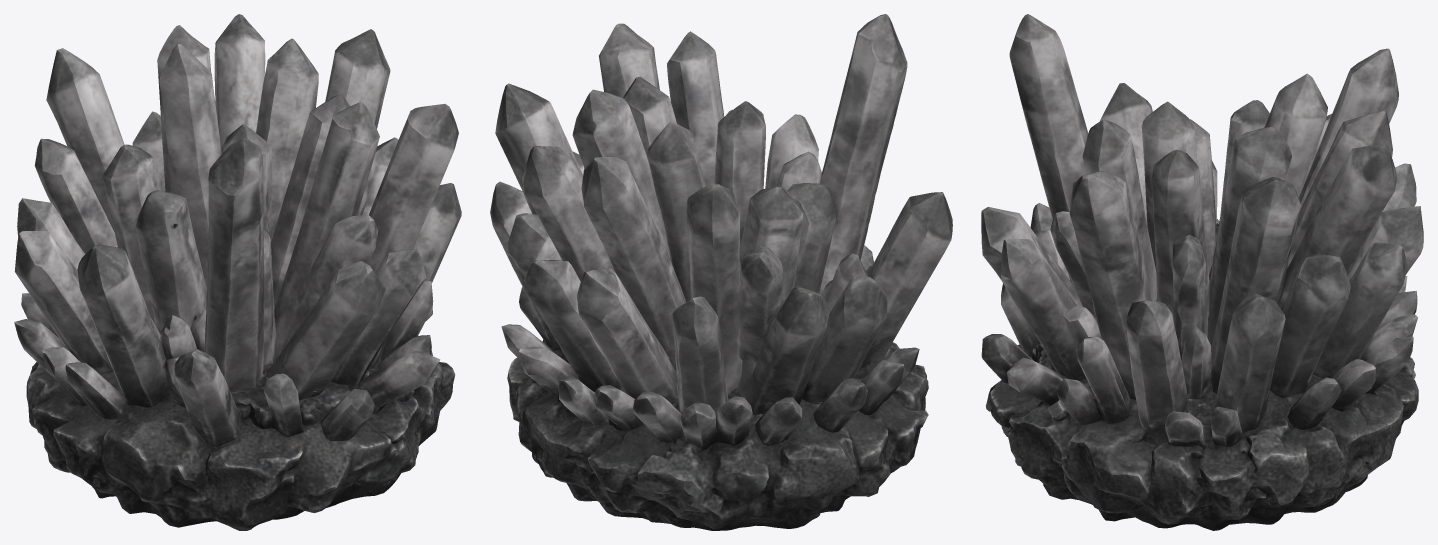
The picture shows the model from 3 angles, left to right: view 1: azimuth 30°, elevation 25°; view 2: azimuth 150°, elevation 25°; view 3: azimuth 270°, elevation 25°; orthographic projection.
Visible parts, largest first — view 1: world; view 2: world; view 3: world.
Part boxes in pixels (x1,y1,x2,y2): world: [14, 14, 461, 530]; world: [490, 14, 952, 530]; world: [981, 14, 1423, 530].
Bounding box in the file's own units: 0.9992 × 0.9925 × 0.9703.
1 material, 1 textured.
